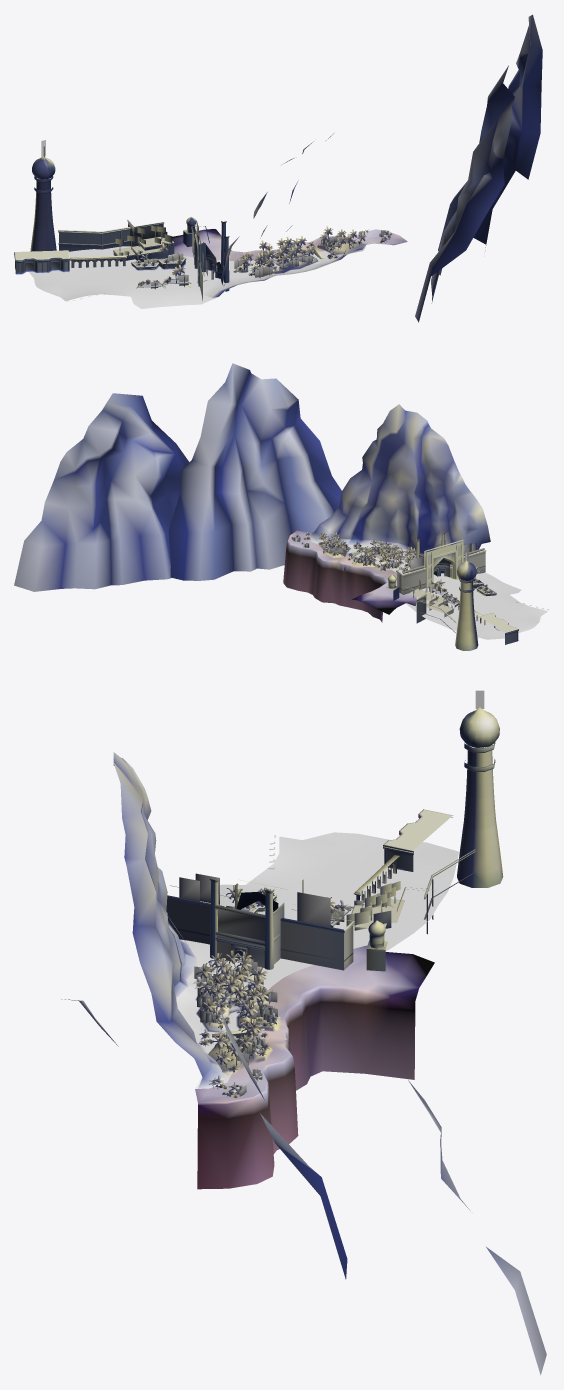
The model's file is 03Forest.gltf.
3 renders of one model, top to bottom at view 1: azimuth 30°, elevation 25°; view 2: azimuth 150°, elevation 25°; view 3: azimuth 270°, elevation 25°, orthographic. The views are drawn at different scales.
Visible parts, largest first — view 1: stg013_a06_Mesh_0004, stg013_o06_Mesh_0004, stg013_o14_Mesh_0005, stg013_p14_Mesh_0030, stg013_o14_Mesh_0008, stg013_p14_Mesh_0008, stg013_o31_Mesh_0007, stg013_a06_Mesh_0001, stg013_o31_Mesh_0003, stg013_o30_Mesh_0000, stg013_o14_Mesh_0000, stg013_o31_Mesh_0004 (+6 smaller); view 2: stg013_a06_Mesh_0004, stg013_o06_Mesh_0004, stg013_o06_Mesh_0002, stg013_o14_Mesh_0005, stg013_a06_Mesh_0001, stg013_p14_Mesh_0030, stg013_o14_Mesh_0008, stg013_p14_Mesh_0008, stg013_o06_Mesh_0001, stg013_o31_Mesh_0010, stg013_o30_Mesh_0000, stg013_a14_Mesh_0003 (+4 smaller); view 3: stg013_o06_Mesh_0004, stg013_o06_Mesh_0002, stg013_a06_Mesh_0004, stg013_o31_Mesh_0010, stg013_a06_Mesh_0001, stg013_p14_Mesh_0008, stg013_o06_Mesh_0001, stg013_p14_Mesh_0030, stg013_o14_Mesh_0005, stg013_o30_Mesh_0000, stg013_a06_Mesh_0002, stg013_o14_Mesh_0008 (+7 smaller).
Boxes of the visible parts, x1,y1,x2,y2 form: stg013_a06_Mesh_0004: [221, 14, 542, 322]; stg013_o06_Mesh_0004: [28, 242, 384, 308]; stg013_o14_Mesh_0005: [15, 219, 323, 288]; stg013_p14_Mesh_0030: [119, 226, 366, 283]; stg013_o14_Mesh_0008: [14, 222, 320, 285]; stg013_p14_Mesh_0008: [118, 220, 388, 289]; stg013_o31_Mesh_0007: [15, 231, 223, 278]; stg013_a06_Mesh_0001: [172, 229, 407, 255]; stg013_o31_Mesh_0003: [23, 206, 213, 272]; stg013_o30_Mesh_0000: [30, 188, 56, 251]; stg013_o14_Mesh_0000: [15, 181, 263, 291]; stg013_o31_Mesh_0004: [17, 156, 215, 269]; stg013_a06_Mesh_0004: [14, 363, 490, 591]; stg013_o06_Mesh_0004: [309, 532, 547, 639]; stg013_o06_Mesh_0002: [283, 549, 382, 622]; stg013_o14_Mesh_0005: [350, 532, 517, 632]; stg013_a06_Mesh_0001: [288, 530, 405, 614]; stg013_p14_Mesh_0030: [319, 532, 480, 593]; stg013_o14_Mesh_0008: [352, 541, 518, 635]; stg013_p14_Mesh_0008: [292, 537, 487, 608]; stg013_o06_Mesh_0001: [286, 535, 386, 599]; stg013_o31_Mesh_0010: [397, 544, 485, 594]; stg013_o30_Mesh_0000: [455, 587, 478, 650]; stg013_a14_Mesh_0003: [408, 578, 494, 613]; stg013_o06_Mesh_0004: [175, 832, 458, 1088]; stg013_o06_Mesh_0002: [197, 1002, 415, 1189]; stg013_a06_Mesh_0004: [61, 752, 546, 1375]; stg013_o31_Mesh_0010: [166, 898, 353, 970]; stg013_a06_Mesh_0001: [195, 952, 434, 1102]; stg013_p14_Mesh_0008: [179, 873, 391, 1096]; stg013_o06_Mesh_0001: [198, 986, 416, 1118]; stg013_p14_Mesh_0030: [196, 884, 395, 1067]; stg013_o14_Mesh_0005: [167, 810, 452, 1038]; stg013_o30_Mesh_0000: [457, 761, 503, 887]; stg013_a06_Mesh_0002: [195, 945, 367, 1097]; stg013_o14_Mesh_0008: [215, 809, 497, 956].
Bounding box in the file's own units: 736 × 270 × 354.
